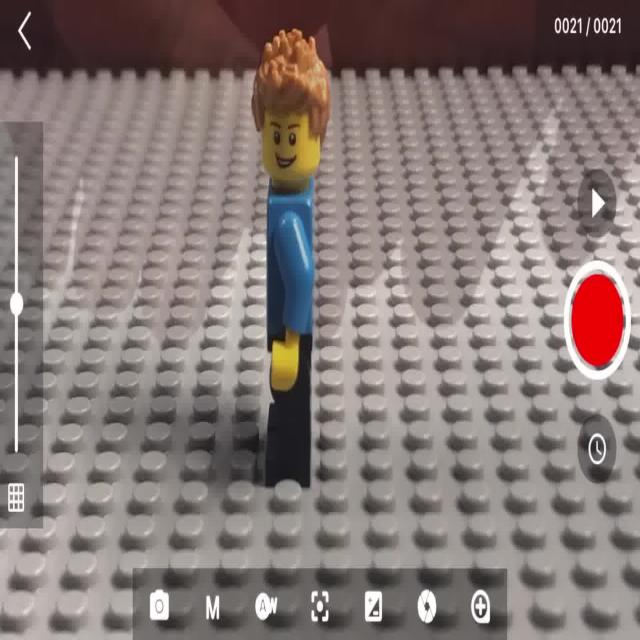4: (278, 218, 304, 414)
hand: (257, 28, 323, 482)
